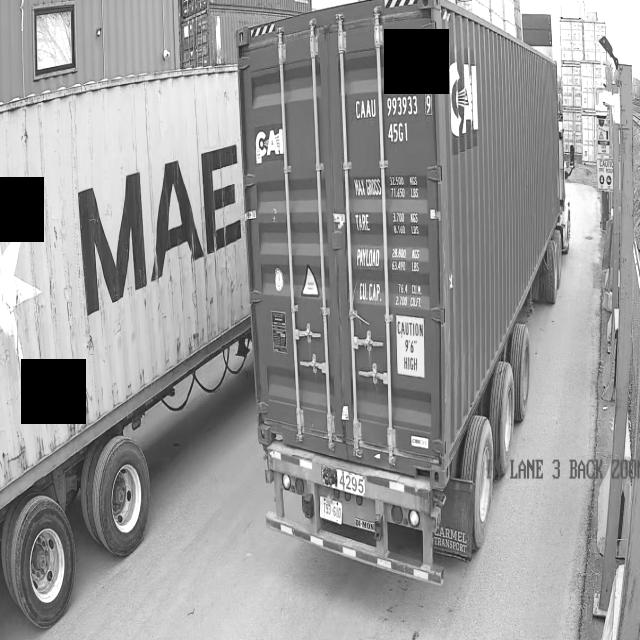container_company_logo: (449, 32, 488, 157), (255, 120, 286, 163)
container_number: (349, 85, 431, 161)
license_plate: (317, 494, 347, 532)
other_container_info: (343, 173, 431, 320)
truck_with_container: (237, 0, 569, 584), (0, 67, 259, 628)
